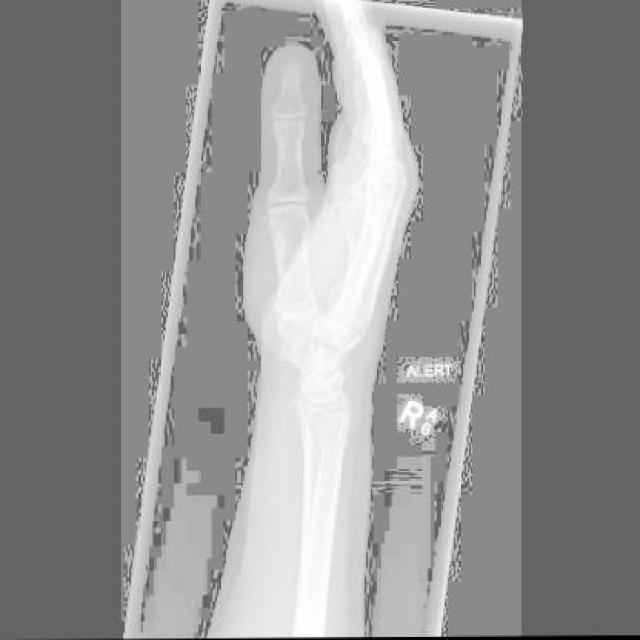Fracture: (337, 363, 353, 377)
